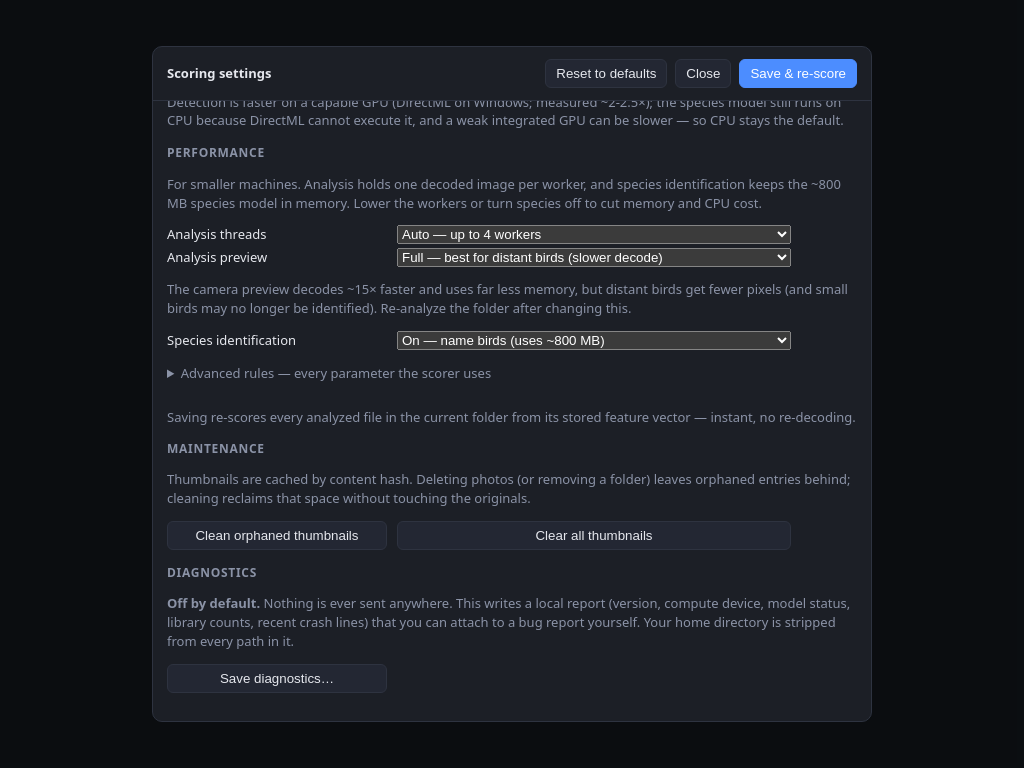
Scenario: Settings diagnostics › writes to the path the save dialog returns
(page scrolled)
Click the button "Save diagnostics…": (277, 678) x1=167 y1=664 x2=387 y2=693
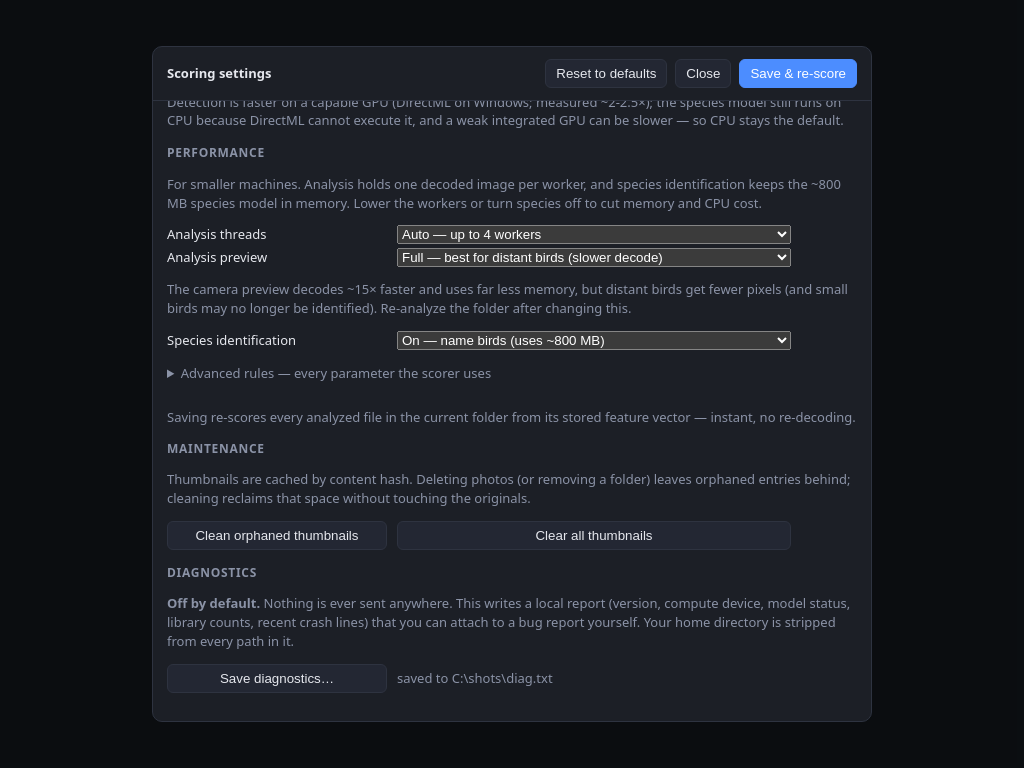
Result: the text "saved to C:\\shots\\diag.txt" is shown at x1=397 y1=669 x2=553 y2=687
